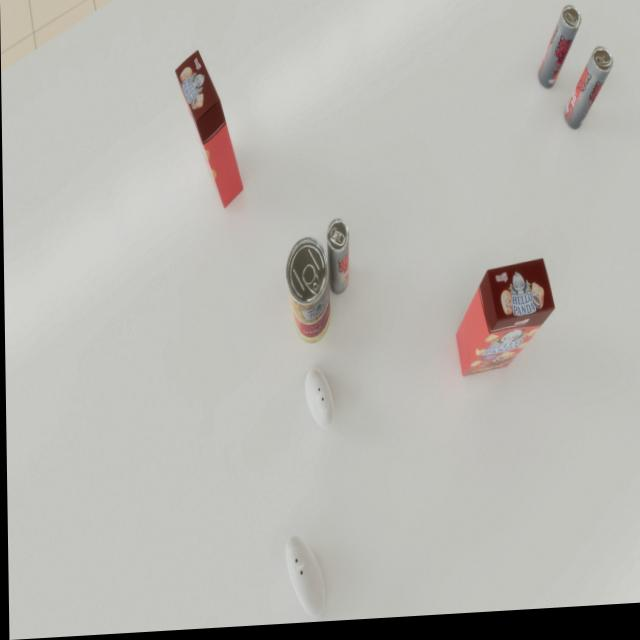HelloPanda: (454, 264, 555, 382), (174, 50, 243, 213)
Potato_sticks: (284, 240, 330, 348)
Rita_zero_sugar: (563, 53, 614, 137), (537, 11, 582, 97), (326, 222, 349, 299)
Salt: (284, 537, 324, 623), (303, 371, 333, 434)
